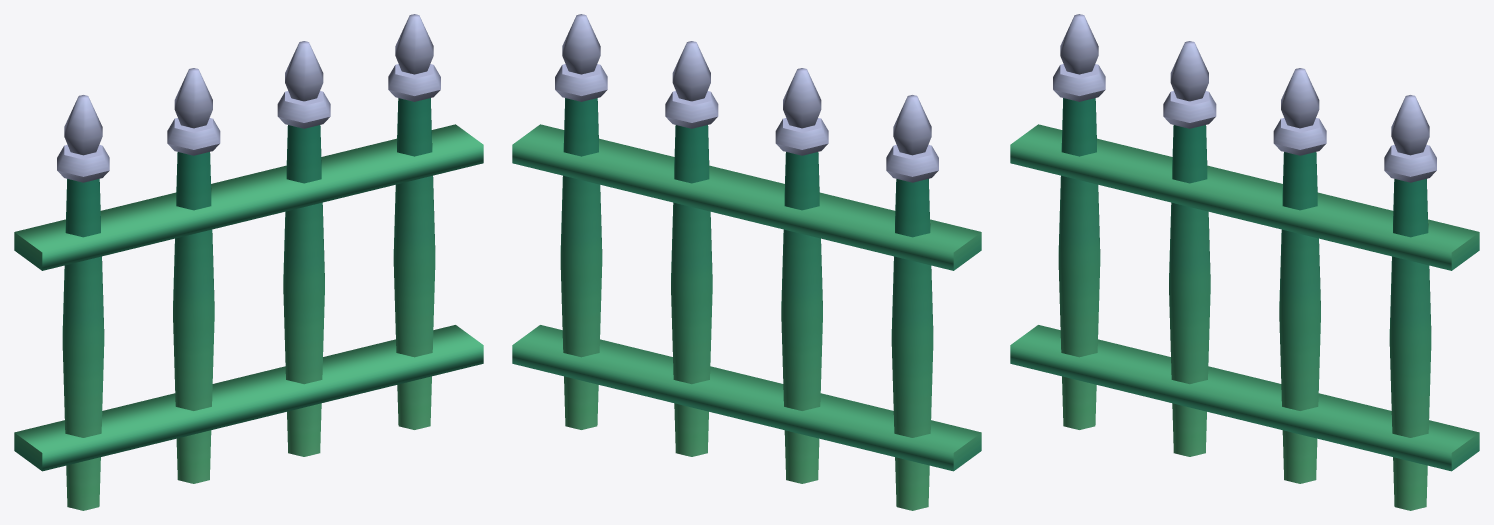
File: grave.iron_fence.glb
3 renders of one model, left to right at view 1: azimuth 30°, elevation 25°; view 2: azimuth 150°, elevation 25°; view 3: azimuth 330°, elevation 25°, orthographic.
Parts seen in each view (by area): view 1: iron-fence; view 2: iron-fence; view 3: iron-fence.
Part boxes in pixels (x1,y1,x2,y2): iron-fence: [14, 14, 483, 510]; iron-fence: [512, 14, 981, 510]; iron-fence: [1010, 14, 1479, 510].
Size of the model in its own units: 2.39 by 2.1 by 0.2625.
1 material, 1 textured.
